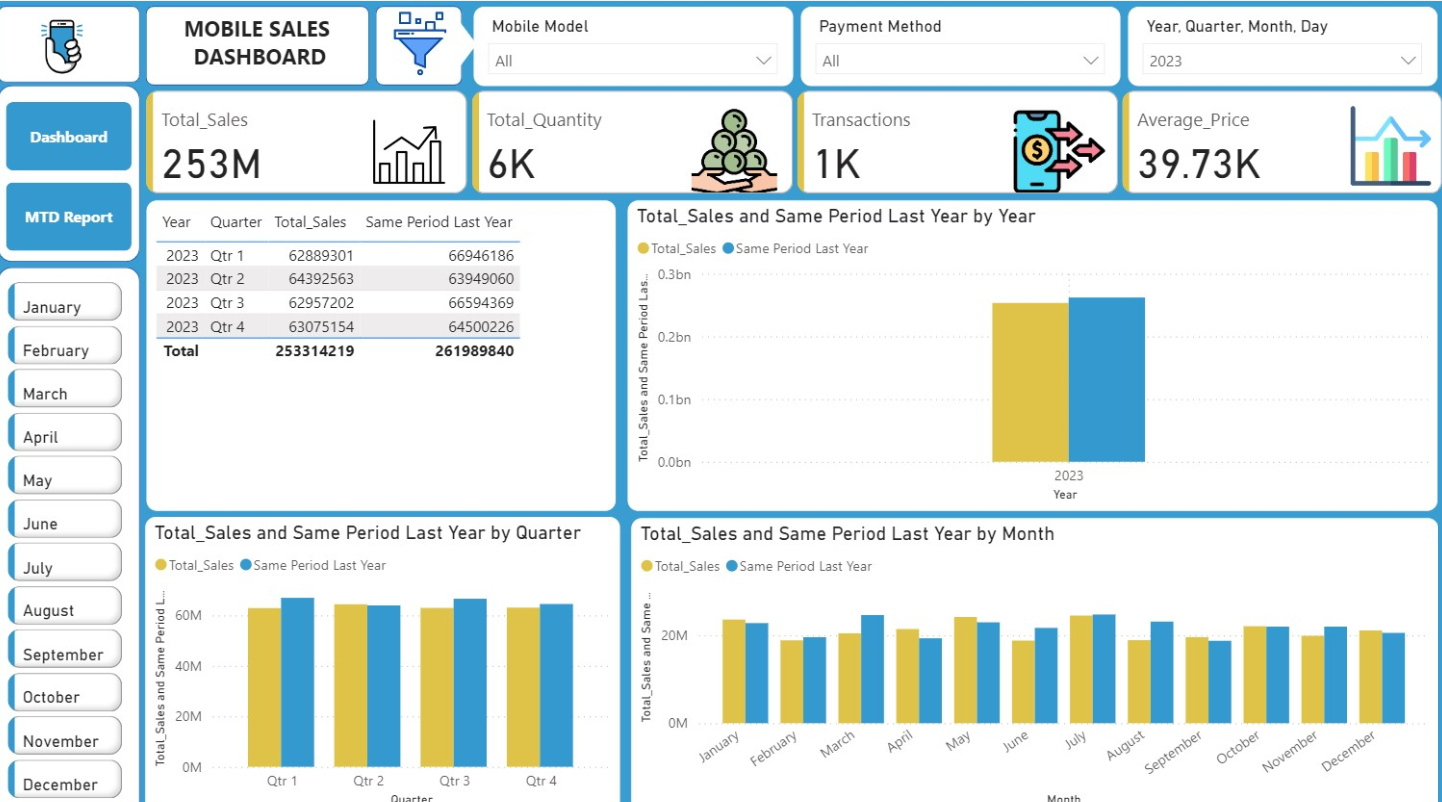

The dashboard page shown, as its layout file describes it:
{"tool":"powerbi","page":{"name":"Same period last year","canvas":[1280,720],"ordinal":2},"visuals":[{"type":"shape","box":[8.7,244.4,122.8,462.7],"z":0},{"type":"shape","box":[10.8,12.1,124.1,54],"z":1000},{"type":"image","box":[45.9,17.5,51.3,41.8],"z":2000},{"type":"shape","box":[11,65.9,123.5,178.4],"z":3000},{"type":"cardVisual","fields":{"Data":["Mobile sales data.Total revenue","Mobile sales data.Total quantity","Mobile sales data.Transaction","Mobile sales data.Average price"]},"box":[120.3,76.9,1159.9,116.6],"z":4000},{"type":"slicer","fields":{"Values":["Mobile sales data.Mobile Model"]},"box":[427.7,12.1,277.9,76.9],"z":5000},{"type":"slicer","fields":{"Values":["Mobile sales data.Payment Method"]},"box":[716.4,12.1,264.4,76.9],"z":6000},{"type":"slicer","fields":{"Values":["calender dates.Date.Variation.Date Hierarchy.Year","calender dates.Date.Variation.Date Hierarchy.Quarter","calender dates.Date.Variation.Date Hierarchy.Month","calender dates.Date.Variation.Date Hierarchy.Day"]},"box":[991.6,12.1,269.8,76.9],"z":7000},{"type":"textbox","box":[135.2,12.4,290.3,75.7],"z":8000},{"type":"actionButton","box":[0,0,100,40],"z":10000},{"type":"listSlicer","fields":{"Values":["calender dates.Date.Variation.Date Hierarchy.Month"]},"box":[8.7,256.8,120.3,440.4],"z":11000},{"type":"tableEx","fields":{"Values":["calender dates.Date.Variation.Date Hierarchy.Year","calender dates.Date.Variation.Date Hierarchy.Quarter","Sum(Mobile sales data.Total sales)","Mobile sales data.Same period last year"]},"box":[135.2,182.4,420.5,263],"z":11001},{"type":"clusteredColumnChart","fields":{"Category":["calender dates.Date.Variation.Date Hierarchy.Year","calender dates.Date.Variation.Date Hierarchy.Quarter"],"Y":["Sum(Mobile sales data.Total sales)","Mobile sales data.Same period last year"]},"box":[566.9,182.4,693.5,263],"z":11002},{"type":"clusteredColumnChart","fields":{"Y":["Sum(Mobile sales data.Total sales)","Mobile sales data.Same period last year"],"Category":["calender dates.Date.Variation.Date Hierarchy.Year","calender dates.Date.Variation.Date Hierarchy.Quarter","calender dates.Date.Variation.Date Hierarchy.Month","calender dates.Date.Variation.Date Hierarchy.Day"]},"box":[566.9,456.5,693.5,250.6],"z":11003},{"type":"clusteredColumnChart","fields":{"Category":["calender dates.Date.Variation.Date Hierarchy.Year","calender dates.Date.Variation.Date Hierarchy.Quarter"],"Y":["Sum(Mobile sales data.Total sales)","Mobile sales data.Same period last year"]},"box":[132.7,456.5,423,250.6],"z":11004},{"type":"pageNavigator","box":[17.4,78.2,111.6,152.6],"z":11005}]}

Visuals, with their boxes in screenshot pixels (x1, y1, x2, y2), scaled from the page's 1280x720 canvas onto the 1442x802 screenshot:
shape: locate(10, 272, 148, 788)
shape: locate(12, 13, 152, 74)
image: locate(52, 19, 110, 66)
shape: locate(12, 73, 152, 272)
cardVisual - Mobile sales data.Total revenue x Mobile sales data.Total quantity: locate(136, 86, 1441, 216)
slicer - Mobile sales data.Mobile Model: locate(482, 13, 795, 99)
slicer - Mobile sales data.Payment Method: locate(807, 13, 1105, 99)
slicer - calender dates.Date.Variation.Date Hierarchy.Year x calender dates.Date.Variation.Date Hierarchy.Quarter: locate(1117, 13, 1421, 99)
textbox: locate(152, 14, 479, 98)
actionButton: locate(0, 0, 113, 45)
listSlicer - calender dates.Date.Variation.Date Hierarchy.Month: locate(10, 286, 145, 777)
tableEx - calender dates.Date.Variation.Date Hierarchy.Year x calender dates.Date.Variation.Date Hierarchy.Quarter: locate(152, 203, 626, 496)
clusteredColumnChart - calender dates.Date.Variation.Date Hierarchy.Year x calender dates.Date.Variation.Date Hierarchy.Quarter: locate(639, 203, 1420, 496)
clusteredColumnChart - Sum(Mobile sales data.Total sales) x Mobile sales data.Same period last year: locate(639, 508, 1420, 788)
clusteredColumnChart - calender dates.Date.Variation.Date Hierarchy.Year x calender dates.Date.Variation.Date Hierarchy.Quarter: locate(149, 508, 626, 788)
pageNavigator: locate(20, 87, 145, 257)
